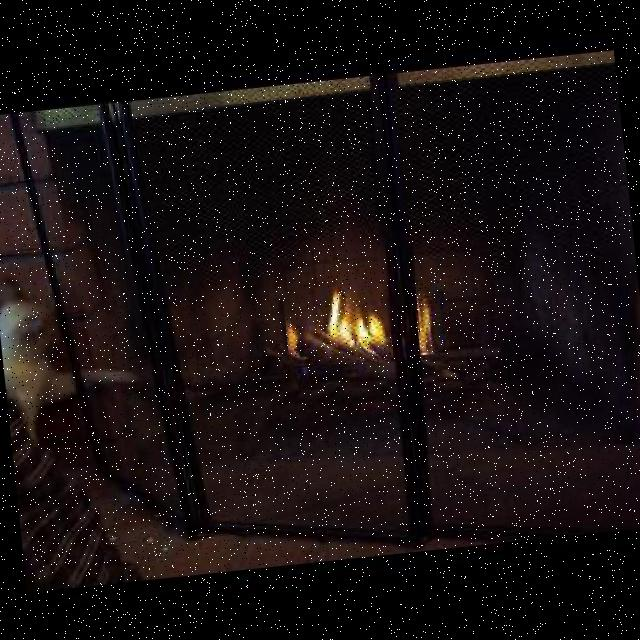fire: (282, 274, 447, 368)
